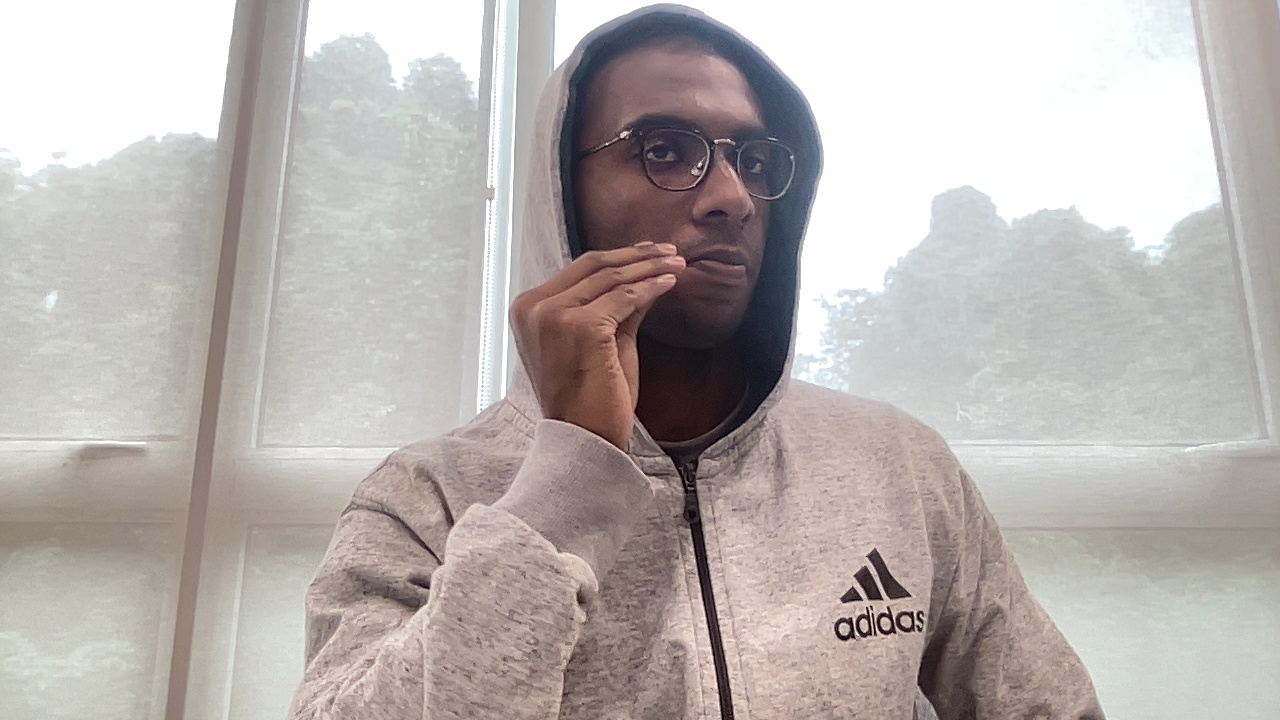eat: (502, 236, 694, 420)
